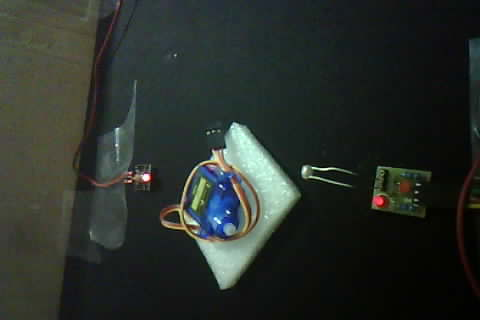motor: (153, 111, 271, 263)
